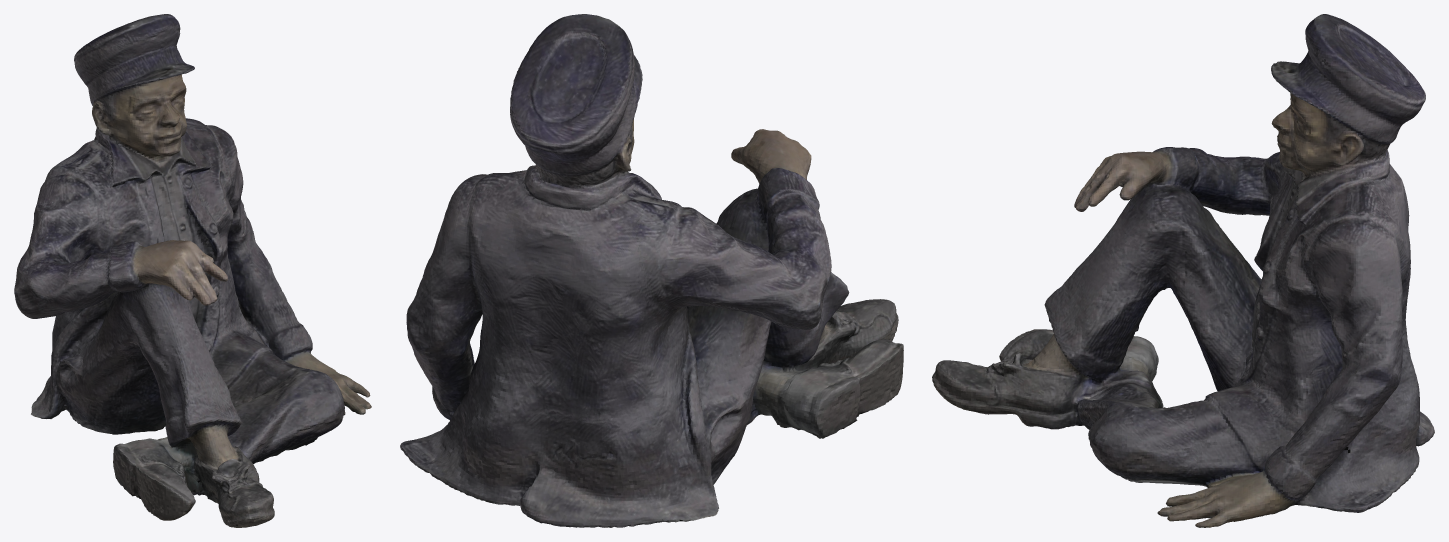
File: khanna-untitled-seated-man.glb
The picture shows the model from 3 angles, left to right: view 1: azimuth 30°, elevation 25°; view 2: azimuth 150°, elevation 25°; view 3: azimuth 270°, elevation 25°; orthographic projection. The views are drawn at different scales.
Visible parts, largest first — view 1: 12_Krishna_Khanna_ Baked; view 2: 12_Krishna_Khanna_ Baked; view 3: 12_Krishna_Khanna_ Baked.
Part boxes in pixels (left/top/right/bottom): 12_Krishna_Khanna_ Baked: left=14, top=14, right=371, bottom=527; 12_Krishna_Khanna_ Baked: left=400, top=14, right=903, bottom=527; 12_Krishna_Khanna_ Baked: left=932, top=14, right=1434, bottom=527.
Bounding box in the file's own units: 0.4517 × 0.5 × 0.5464.
Materials: 1 (1 with a texture image).
